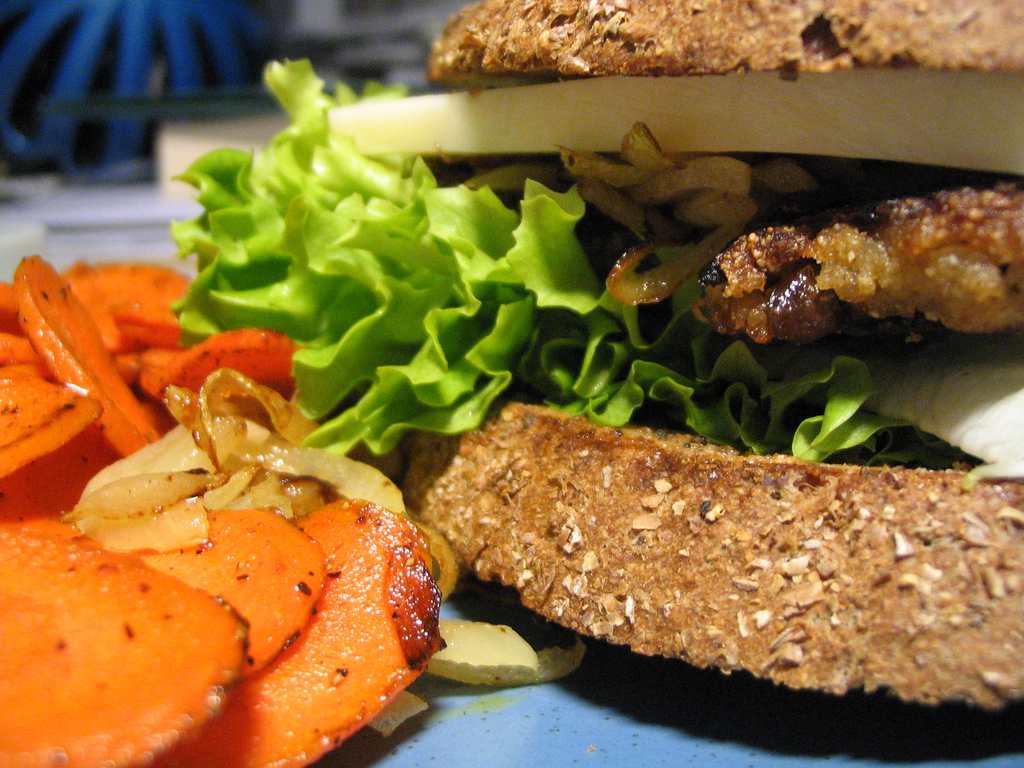chopped lettuce: (200, 150, 546, 407)
slice of bread: (447, 419, 1023, 702), (413, 1, 1013, 83)
